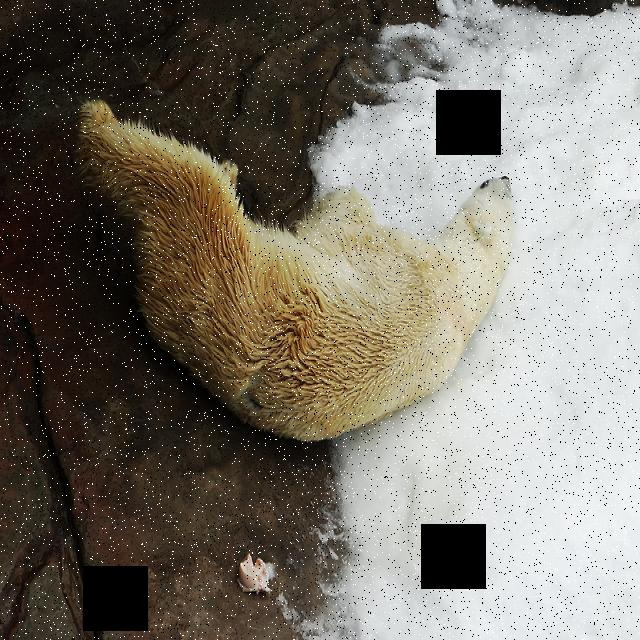Bear: (71, 86, 524, 470)
